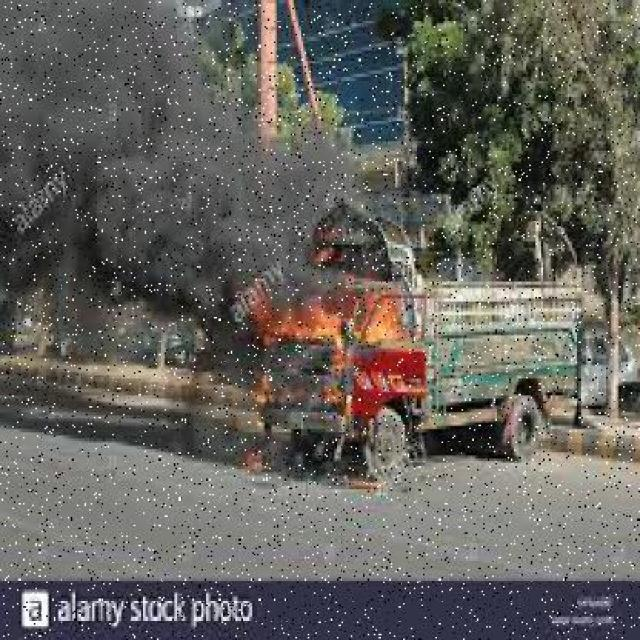fire: (240, 256, 428, 366)
